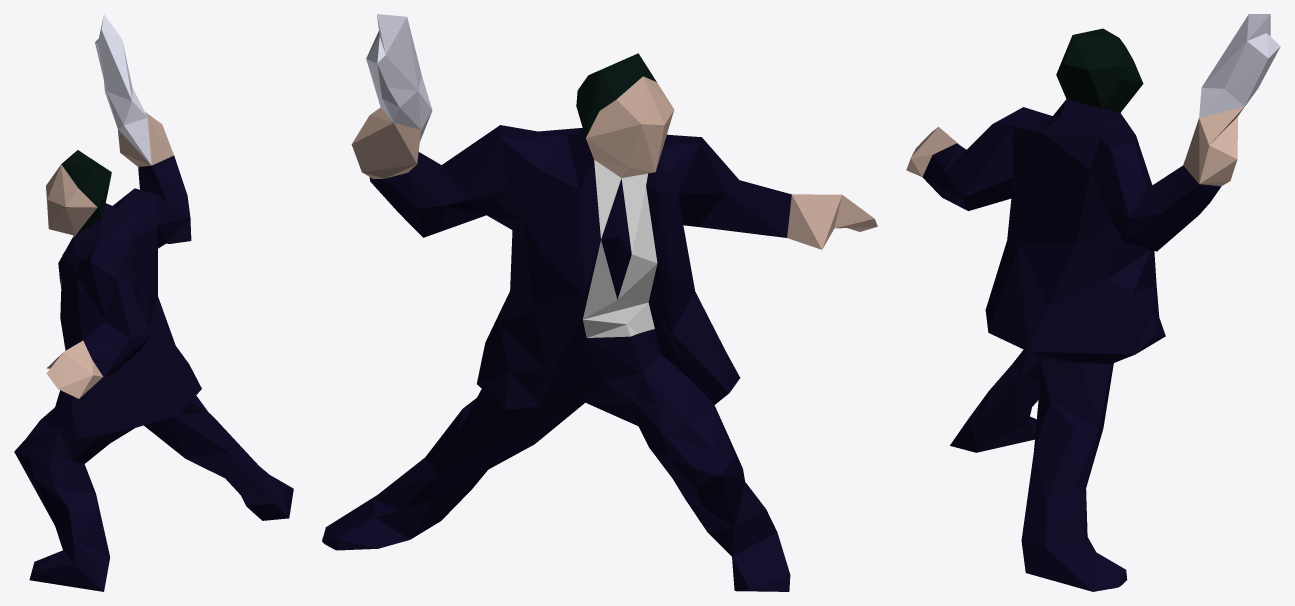
Rendered from krav_maga_1_low_poly_colored.glb.
3 views of the same model, side by side, from view 1: azimuth 30°, elevation 25°; view 2: azimuth 150°, elevation 25°; view 3: azimuth 270°, elevation 25° (orthographic). The views are drawn at different scales.
Parts seen in each view (by area): view 1: Krav_Maga_Agent_1; view 2: Krav_Maga_Agent_1; view 3: Krav_Maga_Agent_1.
Part boxes in pixels (x1,y1,x2,y2): Krav_Maga_Agent_1: [14, 14, 293, 591]; Krav_Maga_Agent_1: [322, 14, 877, 591]; Krav_Maga_Agent_1: [906, 14, 1280, 591].
Bounding box in the file's own units: 1.35 × 1.81 × 1.19.
